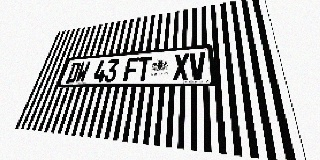3: (103, 59, 120, 82)
4: (92, 60, 109, 82)
D: (65, 62, 81, 83)
F: (123, 57, 139, 82)
T: (136, 56, 152, 81)
V: (189, 52, 206, 80)
W: (75, 61, 91, 83)
X: (173, 53, 189, 80)
